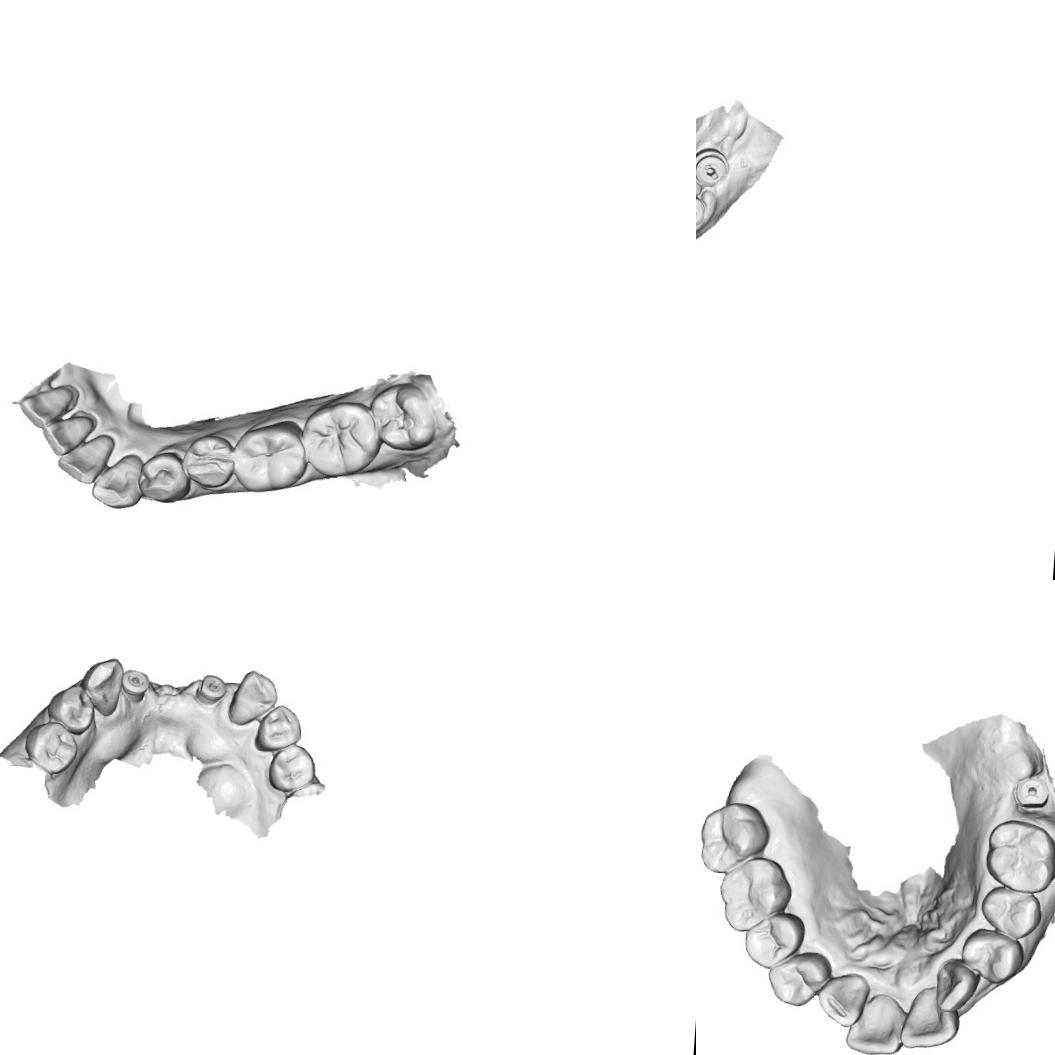canine: (88, 448, 146, 510), (226, 667, 279, 728), (814, 970, 868, 1028), (77, 654, 124, 718), (932, 957, 981, 1014)
implant: (696, 190, 711, 231)
implant_minus: (696, 145, 732, 187), (193, 672, 228, 707), (119, 667, 151, 705)
implant_plus: (1009, 775, 1050, 810)
incisor: (898, 982, 962, 1052), (843, 990, 908, 1055), (52, 430, 118, 486), (16, 378, 75, 432), (37, 408, 99, 459)
molar: (299, 397, 382, 482), (230, 416, 308, 496), (716, 854, 793, 934), (697, 798, 771, 876), (982, 816, 1055, 895), (368, 378, 438, 455)
premolar: (764, 948, 832, 1008), (742, 909, 806, 970), (958, 926, 1024, 985), (978, 884, 1043, 941), (181, 431, 239, 492), (22, 718, 80, 775), (138, 448, 190, 506), (45, 682, 96, 736), (252, 702, 304, 754), (266, 742, 317, 793)
